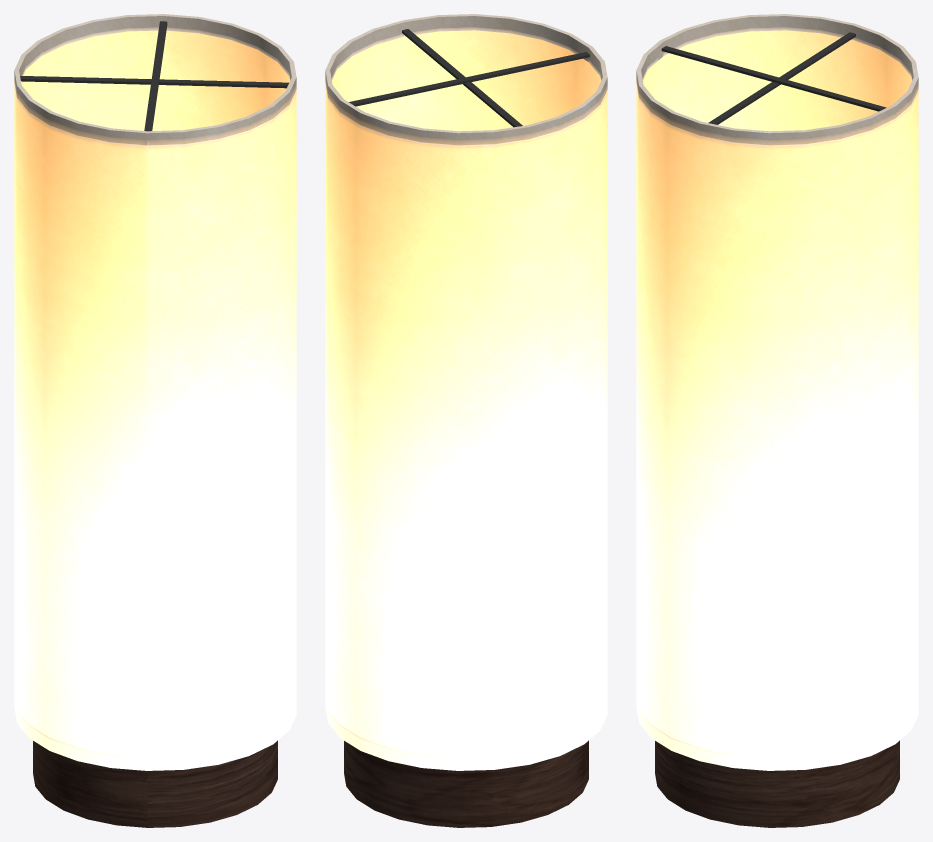
The model's file is dark_floor_light_small.fbx.
3 views of the same model, side by side, from view 1: azimuth 30°, elevation 25°; view 2: azimuth 150°, elevation 25°; view 3: azimuth 270°, elevation 25° (orthographic).
Parts seen in each view (by area): view 1: floor lamp small.021; view 2: floor lamp small.021; view 3: floor lamp small.021.
Boxes of the visible parts, x1,y1,x2,y2 form: floor lamp small.021: [14, 14, 296, 827]; floor lamp small.021: [325, 14, 607, 827]; floor lamp small.021: [636, 14, 918, 827].
Bounding box in the file's own units: 29.88 × 82.11 × 29.88.
